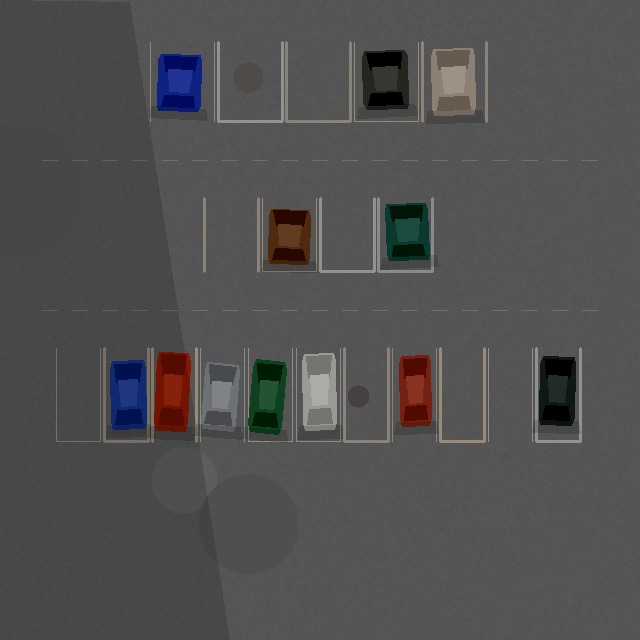space-empty: (218, 42, 282, 121), (286, 42, 350, 121), (56, 348, 100, 441), (344, 348, 388, 441), (440, 348, 484, 441), (488, 348, 532, 441), (204, 198, 258, 271), (320, 198, 374, 271)
space-occupied: (150, 42, 214, 121), (354, 42, 418, 121), (422, 42, 486, 121), (104, 348, 148, 441), (152, 348, 196, 441), (200, 348, 244, 441), (248, 348, 292, 441), (296, 348, 340, 441), (392, 348, 436, 441), (536, 348, 580, 441), (262, 198, 316, 271), (378, 198, 432, 271)
